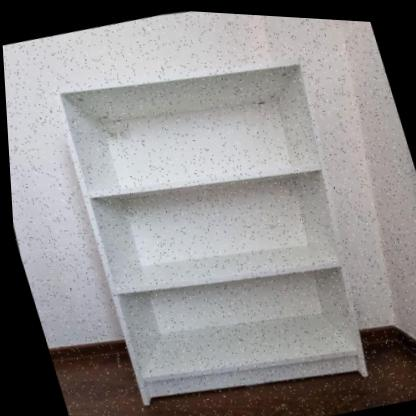Shelf: (16, 12, 403, 416)
